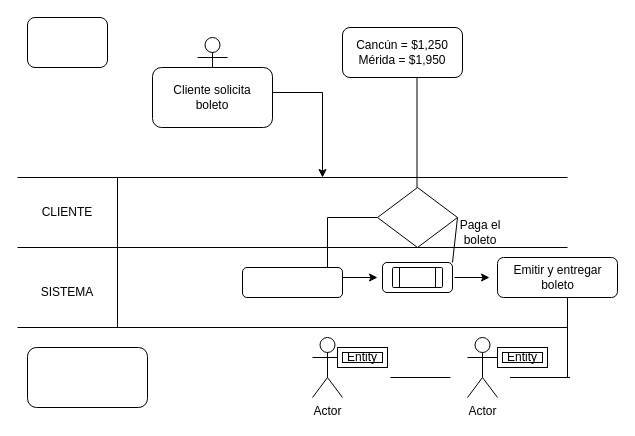
The diagram is 635 pixels wide and 436 high, and some of its shapes have lost their labels. The shapes that lost their labels are listed below. From the top down, each one's box as (x1, y1, x2, y2) in pixels, then its label:
(26, 16, 108, 68): Inicio
(376, 186, 458, 248): Consulta el vuelo
(242, 266, 342, 298): Consulta vuelo y tarifa
(26, 346, 148, 408): Fin
